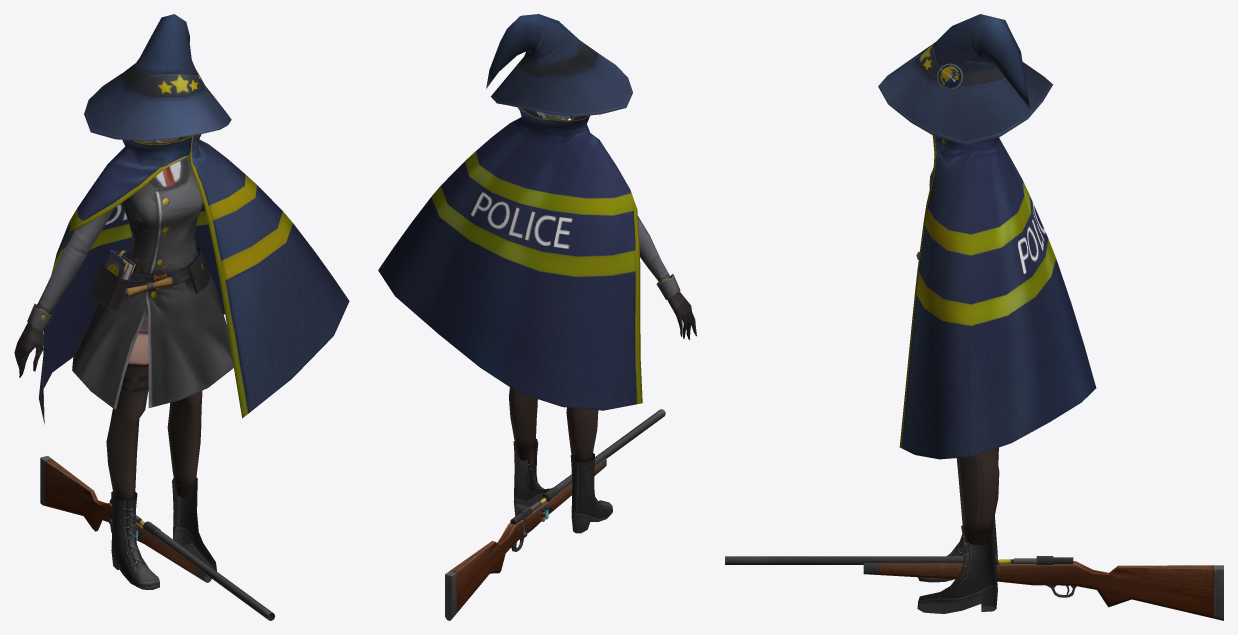
Rendered from FSk.obj.
The picture shows the model from 3 angles, left to right: view 1: azimuth 30°, elevation 25°; view 2: azimuth 150°, elevation 25°; view 3: azimuth 270°, elevation 25°; orthographic projection. The views are drawn at different scales.
Visible parts, largest first — view 1: char_WIP:body_02 char_WIP:cape2, char_WIP:body_01 char_WIP:polySurface76, char_WIP:body_02 cape2, char_WIP:body_02 char_WIP:hat, char_WIP:body_01 char_WIP:body_female_010 char_WIP:body_female_0, char_WIP:body_01 char_WIP:pCylinder8 char_WIP:pCylinder9, char_WIP:weapon char_WIP:polySurface92, char_WIP:body_02 char_WIP:polySurface100 char_WIP:polySurface112, char_WIP:weapon char_WIP:polySurface87, char_WIP:body_01 char_WIP:polySurface106, char_WIP:body_02 char_WIP:polySurface99 char_WIP:polySurface114, char_WIP:body_01 char_WIP:polySurface58 (+2 smaller); view 2: char_WIP:body_02 char_WIP:cape2, char_WIP:body_02 cape2, char_WIP:body_02 char_WIP:hat, char_WIP:weapon char_WIP:polySurface92, char_WIP:body_01 char_WIP:pCylinder8 char_WIP:pCylinder9, char_WIP:body_01 char_WIP:body_female_010 char_WIP:body_female_0, char_WIP:weapon char_WIP:polySurface87, char_WIP:body_02 char_WIP:polySurface100 char_WIP:polySurface112, char_WIP:body_02 char_WIP:polySurface99 char_WIP:polySurface114; view 3: char_WIP:body_02 char_WIP:cape2, char_WIP:body_02 char_WIP:hat, char_WIP:body_02 cape2, char_WIP:weapon char_WIP:polySurface92, char_WIP:body_01 char_WIP:pCylinder8 char_WIP:pCylinder9, char_WIP:body_01 char_WIP:body_female_010 char_WIP:body_female_0, char_WIP:weapon char_WIP:polySurface87.
Boxes of the visible parts, left/top/right/bottom form: char_WIP:body_02 char_WIP:cape2: left=38, top=134, right=349, bottom=424; char_WIP:body_01 char_WIP:polySurface76: left=72, top=153, right=233, bottom=409; char_WIP:body_02 cape2: left=39, top=134, right=346, bottom=418; char_WIP:body_02 char_WIP:hat: left=84, top=14, right=231, bottom=141; char_WIP:body_01 char_WIP:body_female_010 char_WIP:body_female_0: left=106, top=310, right=202, bottom=500; char_WIP:body_01 char_WIP:pCylinder8 char_WIP:pCylinder9: left=111, top=477, right=216, bottom=589; char_WIP:weapon char_WIP:polySurface92: left=40, top=456, right=211, bottom=582; char_WIP:body_02 char_WIP:polySurface100 char_WIP:polySurface112: left=36, top=208, right=114, bottom=314; char_WIP:weapon char_WIP:polySurface87: left=143, top=521, right=274, bottom=620; char_WIP:body_01 char_WIP:polySurface106: left=89, top=264, right=129, bottom=311; char_WIP:body_02 char_WIP:polySurface99 char_WIP:polySurface114: left=14, top=322, right=43, bottom=377; char_WIP:body_01 char_WIP:polySurface58: left=187, top=245, right=210, bottom=293; char_WIP:body_02 char_WIP:cape2: left=378, top=107, right=642, bottom=410; char_WIP:body_02 cape2: left=379, top=107, right=641, bottom=409; char_WIP:body_02 char_WIP:hat: left=486, top=14, right=632, bottom=116; char_WIP:weapon char_WIP:polySurface92: left=445, top=457, right=606, bottom=620; char_WIP:body_01 char_WIP:pCylinder8 char_WIP:pCylinder9: left=513, top=439, right=612, bottom=533; char_WIP:body_01 char_WIP:body_female_010 char_WIP:body_female_0: left=509, top=387, right=598, bottom=462; char_WIP:weapon char_WIP:polySurface87: left=541, top=409, right=665, bottom=501; char_WIP:body_02 char_WIP:polySurface100 char_WIP:polySurface112: left=638, top=216, right=670, bottom=282; char_WIP:body_02 char_WIP:polySurface99 char_WIP:polySurface114: left=667, top=291, right=696, bottom=339; char_WIP:body_02 char_WIP:cape2: left=899, top=135, right=1096, bottom=459; char_WIP:body_02 char_WIP:hat: left=878, top=14, right=1052, bottom=145; char_WIP:body_02 cape2: left=900, top=137, right=1093, bottom=458; char_WIP:weapon char_WIP:polySurface92: left=863, top=561, right=1223, bottom=620; char_WIP:body_01 char_WIP:pCylinder8 char_WIP:pCylinder9: left=917, top=515, right=997, bottom=613; char_WIP:body_01 char_WIP:body_female_010 char_WIP:body_female_0: left=956, top=447, right=999, bottom=545; char_WIP:weapon char_WIP:polySurface87: left=725, top=555, right=997, bottom=564.
Bounding box in the file's own units: 9.28 × 14.87 × 10.94.
4 materials, 4 textured.
